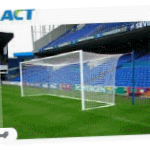goals: (18, 48, 116, 111)
